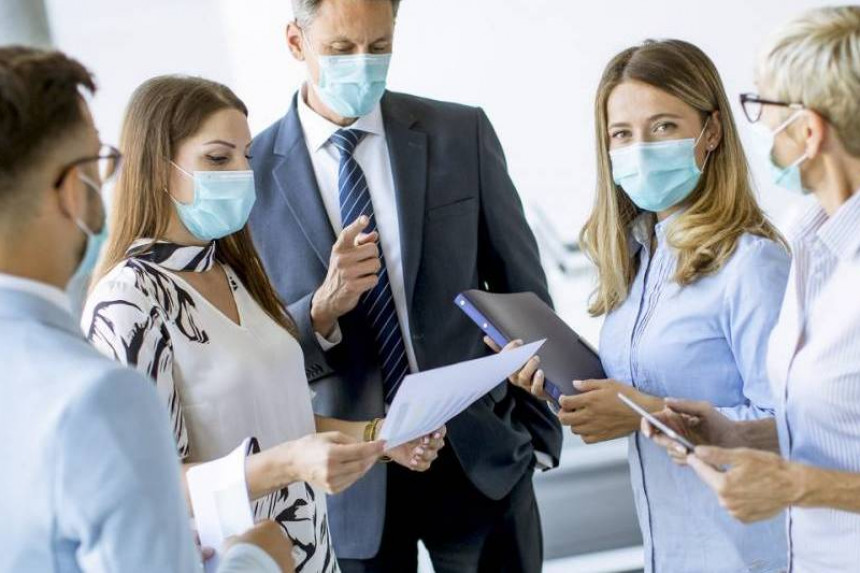with_mask: (142, 111, 258, 246), (589, 92, 704, 218), (289, 8, 395, 112), (745, 86, 833, 203)
